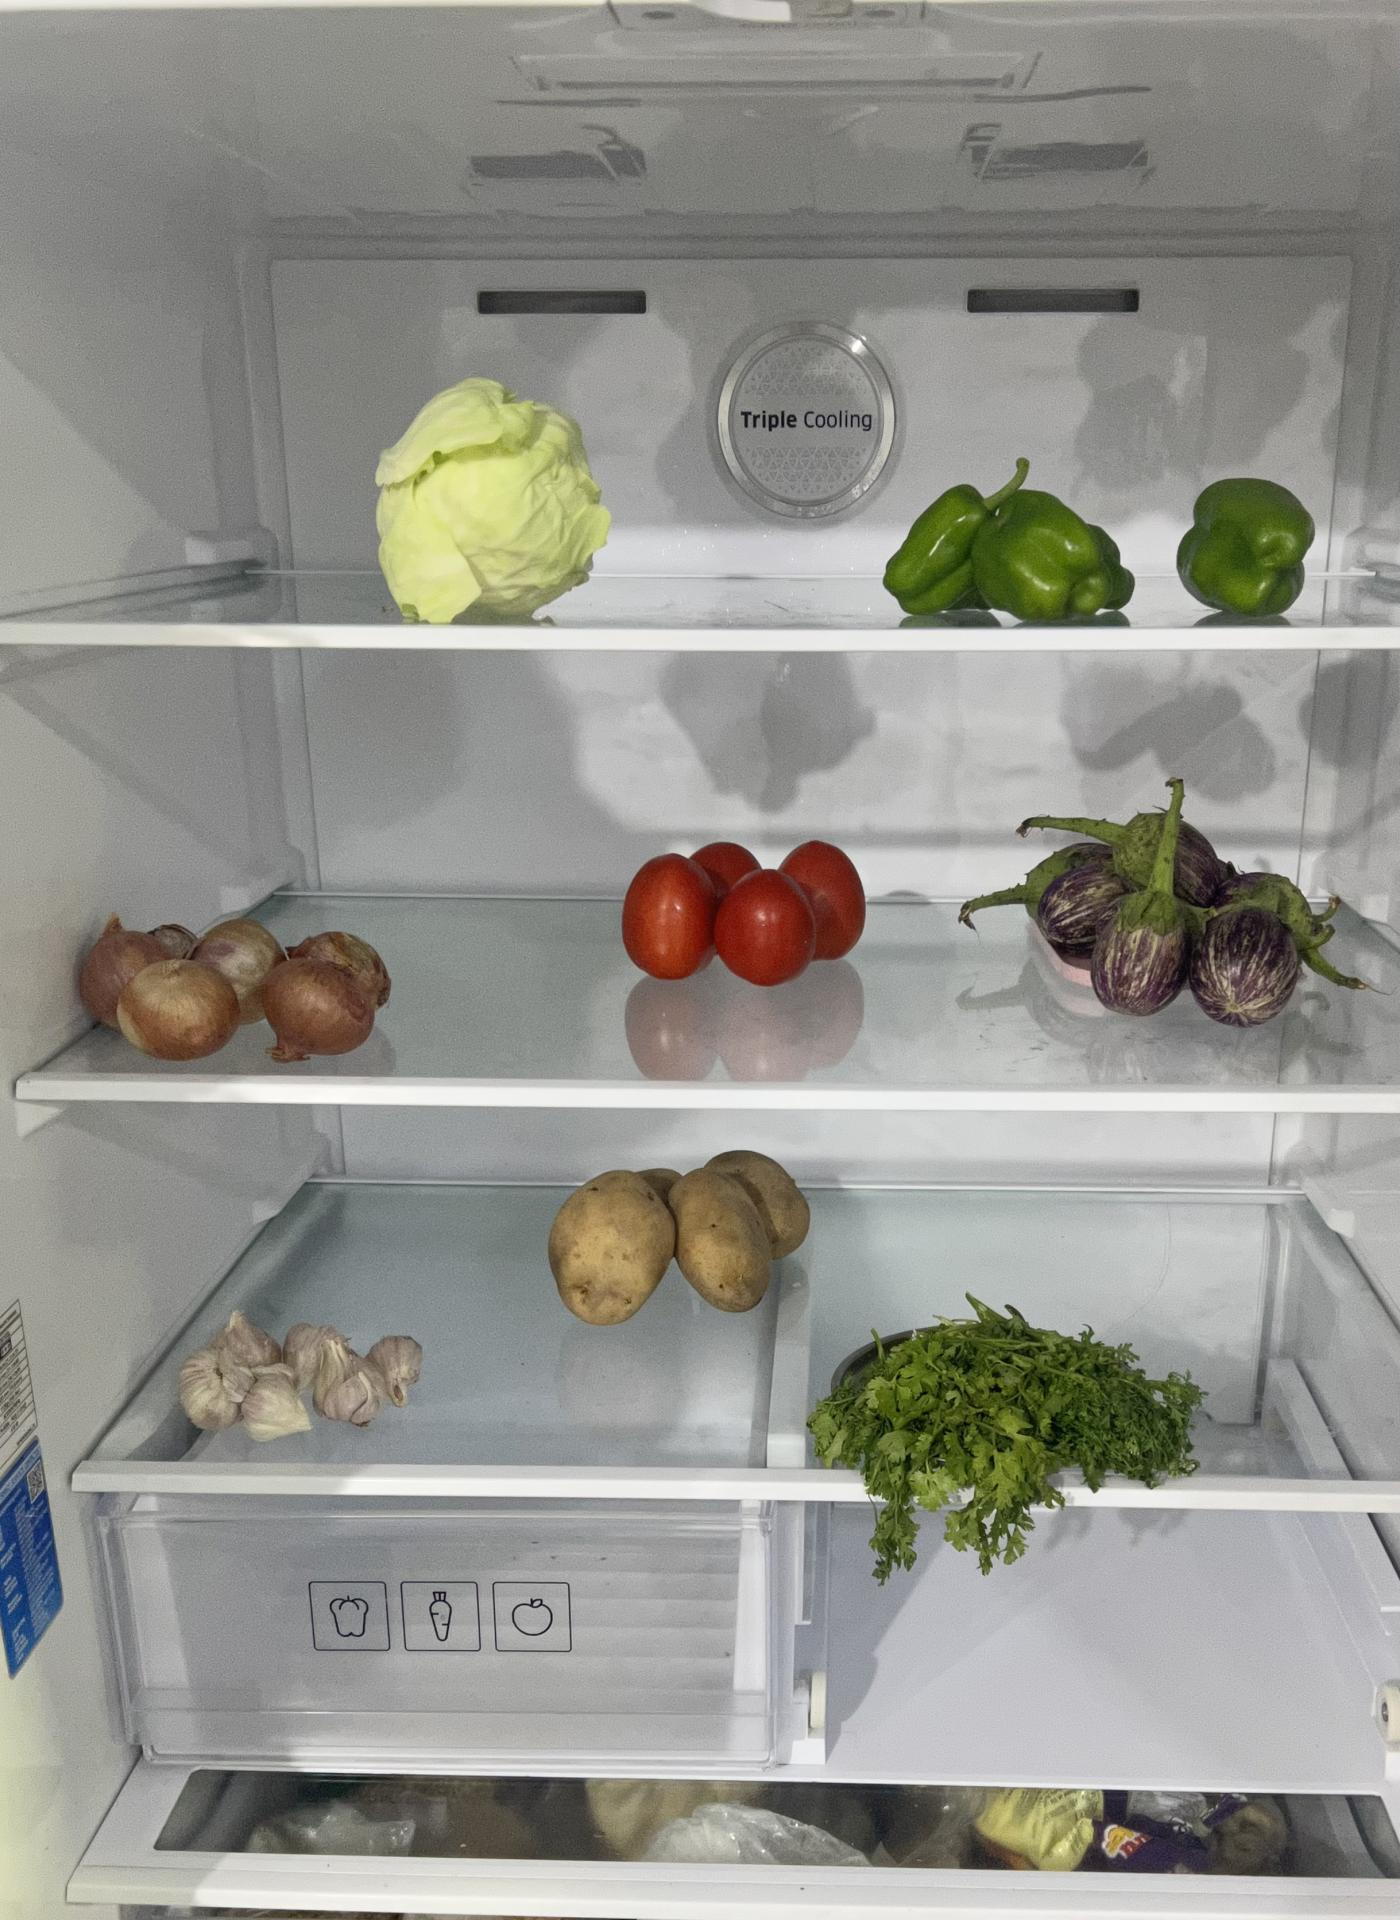brinjal: (1006, 781, 1314, 1021)
cabbage: (379, 379, 610, 623)
capsicum: (881, 479, 1138, 625), (1179, 450, 1317, 622)
coriander: (816, 1318, 1209, 1506)
garlic: (174, 1306, 419, 1427)
onion: (81, 908, 286, 1052)
potato: (544, 1152, 810, 1325)
tomato: (628, 832, 874, 979)
